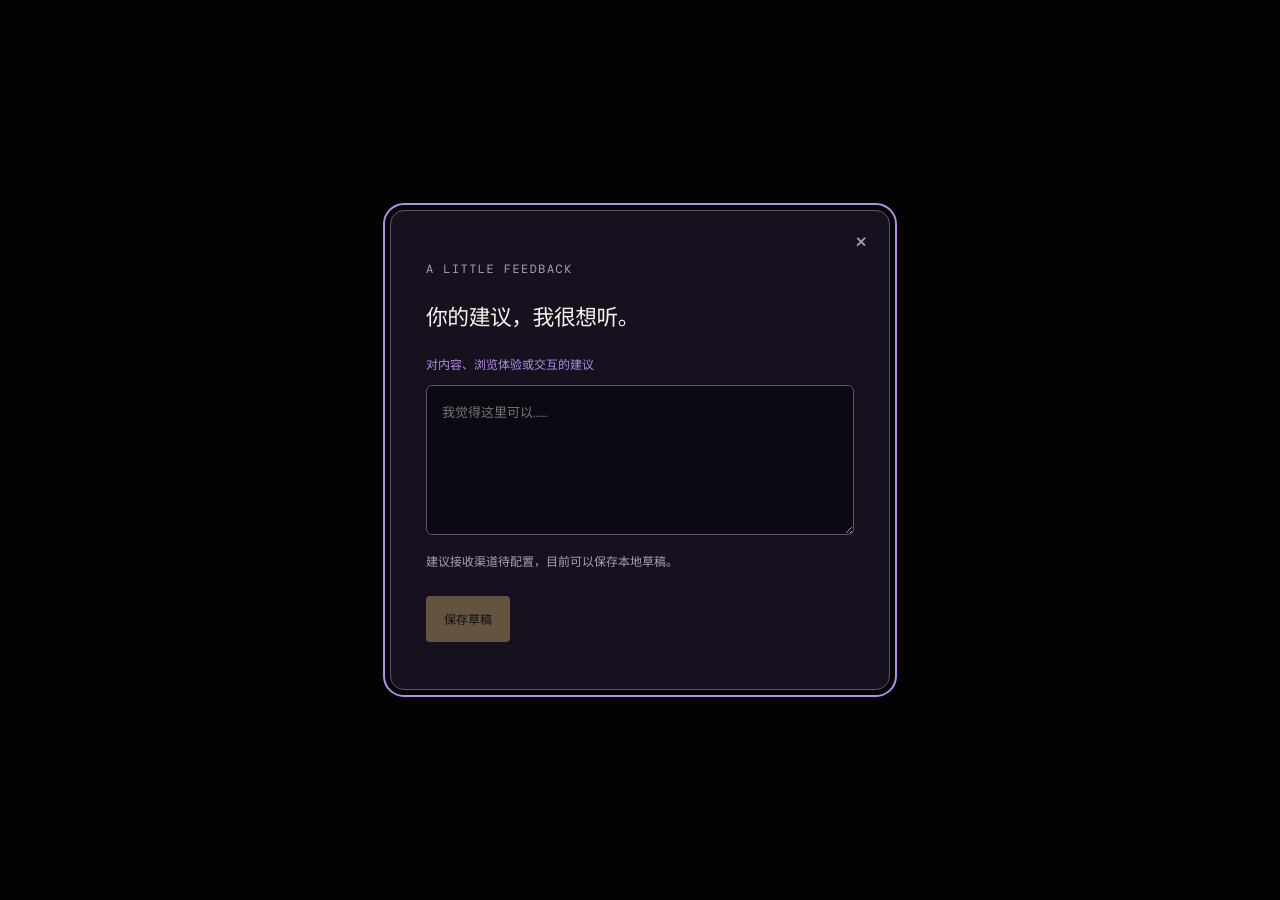
it: PortfolioDialog › feedback variant › saves a trimmed draft to localStorage and reports success on submit
Type "  我的建议  " into the text box.
click(640, 460); type("  我的建议  ")  # box [426, 385, 854, 535]
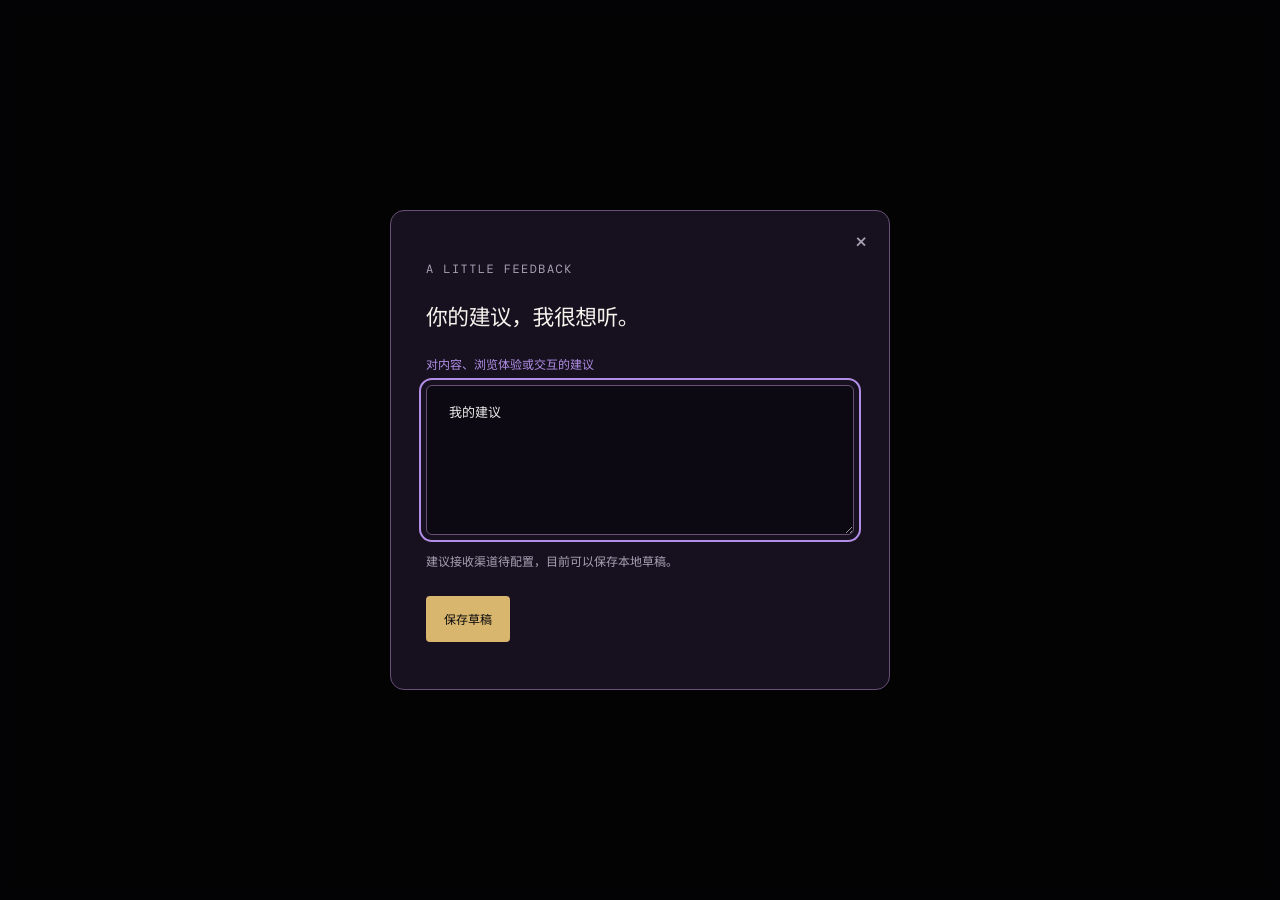
Click the button "保存草稿".
click(468, 619)  # box [426, 596, 510, 642]
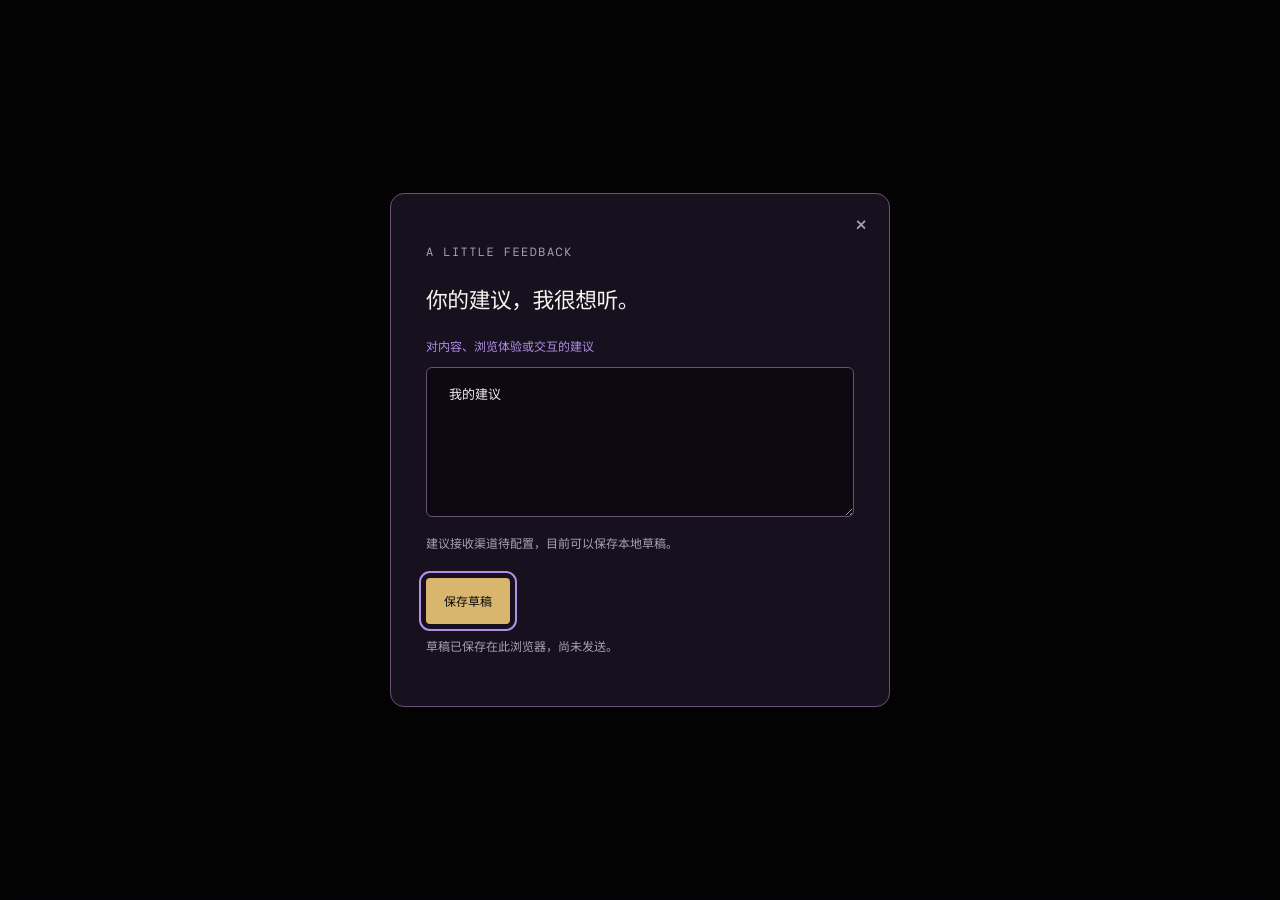
Expected: the message reads "草稿已保存在此浏览器，尚未发送。", [426, 639, 618, 655]
